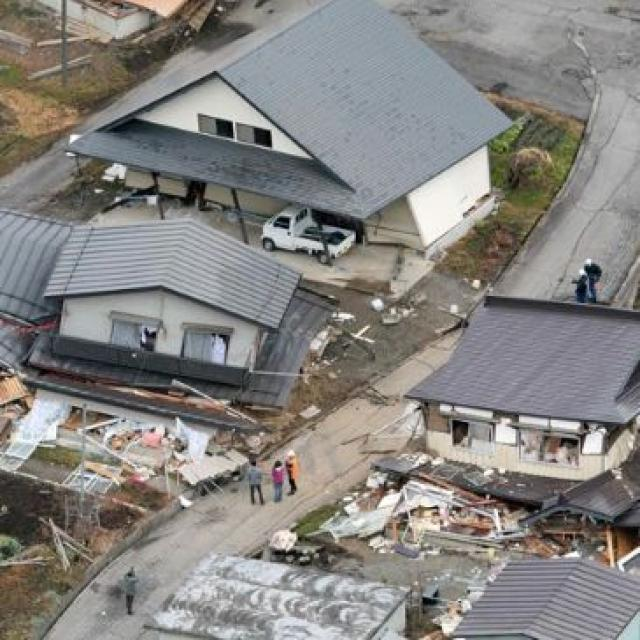collapsed_building: (0, 211, 277, 484), (391, 306, 638, 542)
